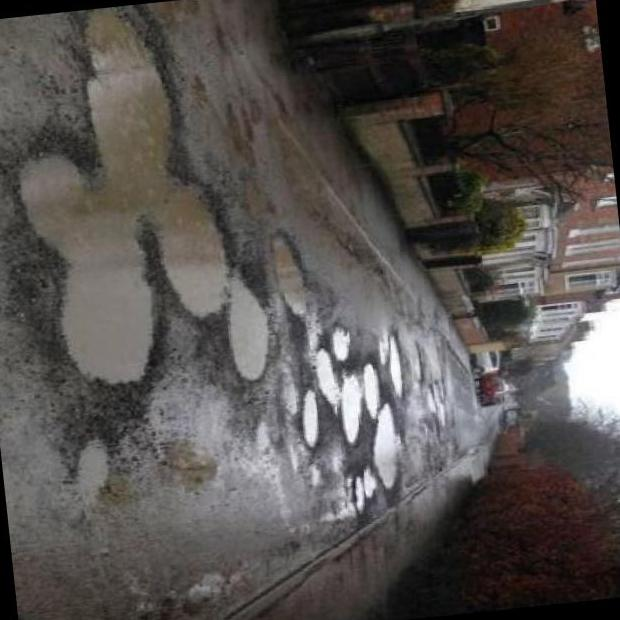pothole: (0, 18, 235, 392), (54, 424, 144, 528), (218, 273, 273, 387), (266, 220, 322, 320), (364, 402, 414, 500), (328, 372, 372, 450), (288, 384, 330, 452), (319, 315, 364, 374), (310, 338, 346, 408), (382, 323, 412, 405), (350, 463, 383, 514), (361, 360, 384, 420), (277, 380, 302, 416)
